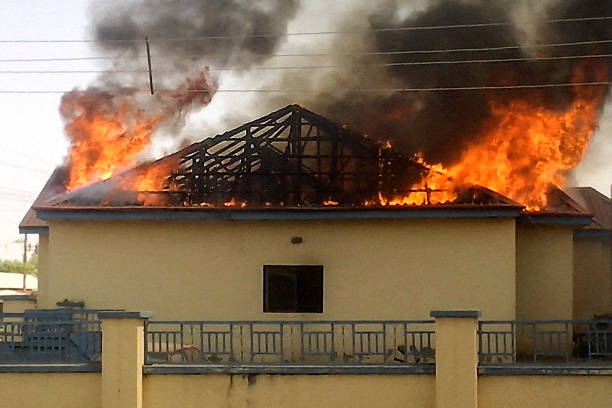terrorist: (144, 18, 418, 368)
